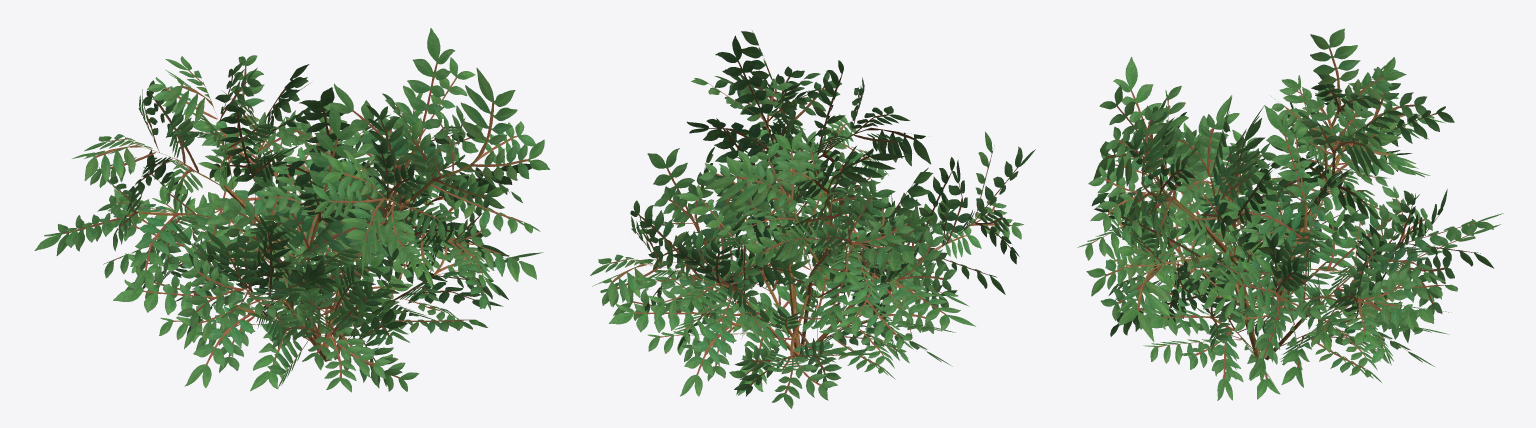
File: MS_ShrubTree02.fbx
The picture shows the model from 3 angles, left to right: view 1: azimuth 30°, elevation 25°; view 2: azimuth 150°, elevation 25°; view 3: azimuth 270°, elevation 25°; orthographic projection. The views are drawn at different scales.
Visible parts, largest first — view 1: MS_ShrubTree02; view 2: MS_ShrubTree02; view 3: MS_ShrubTree02.
Part boxes in pixels (left/top/right/bottom): MS_ShrubTree02: left=34, top=28, right=550, bottom=392; MS_ShrubTree02: left=590, top=30, right=1035, bottom=408; MS_ShrubTree02: left=1077, top=28, right=1503, bottom=400.
Size of the model in its own units: 393 by 282 by 357.
